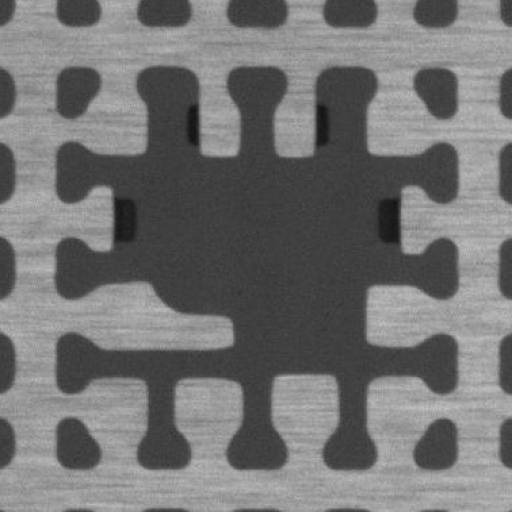NO_DIE: (54, 62, 466, 466)
